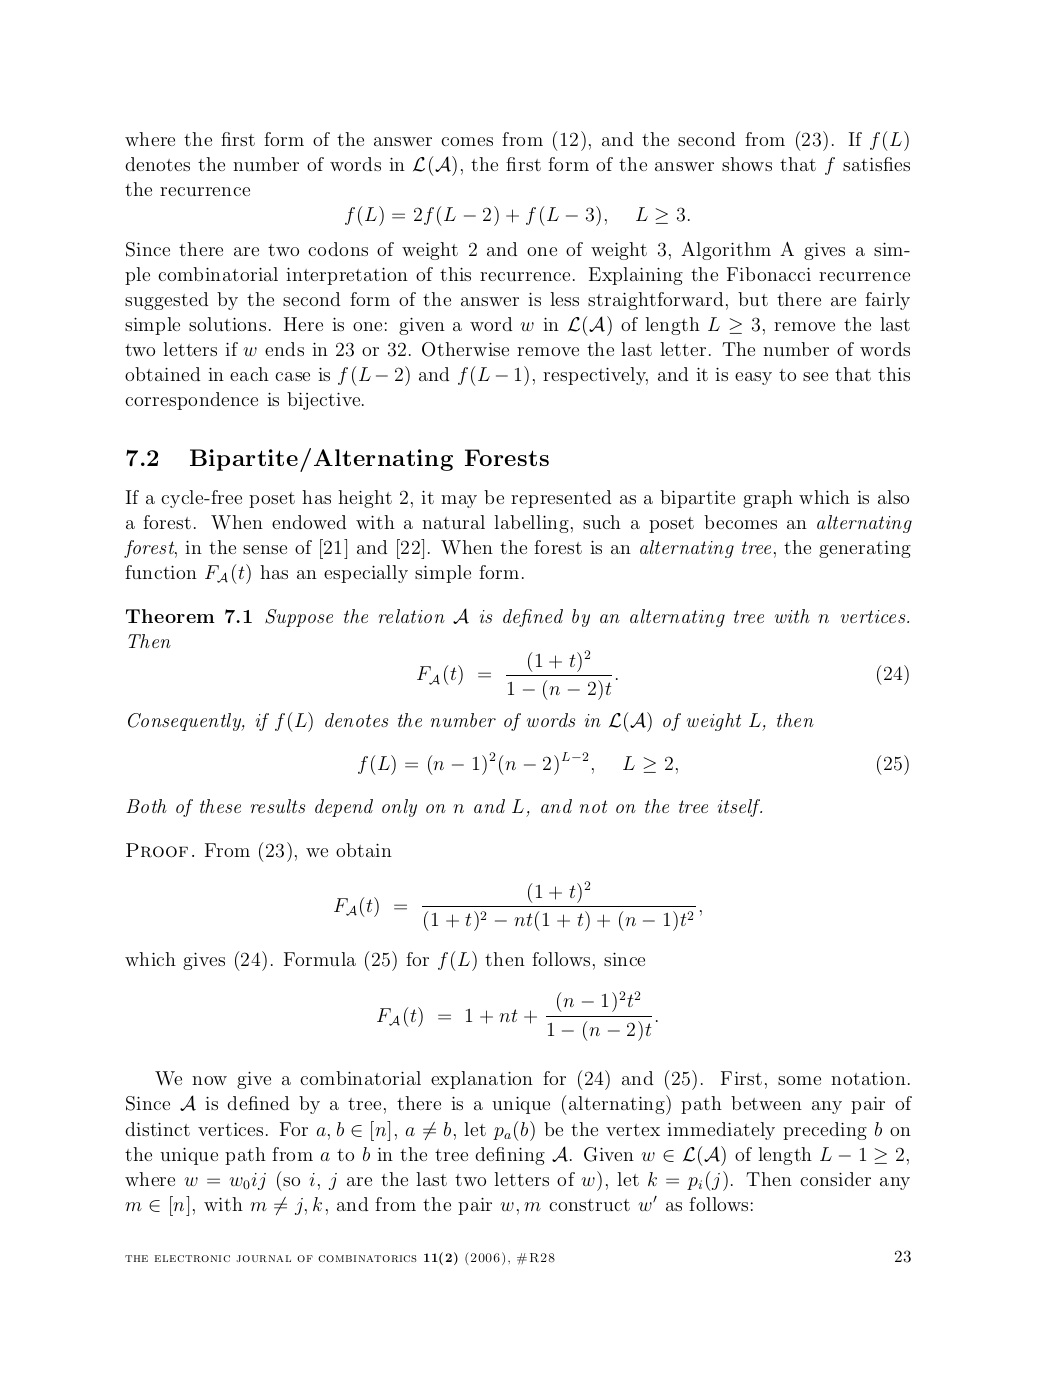formula: (417, 649, 908, 700), (334, 880, 701, 931), (377, 990, 658, 1041), (358, 751, 908, 775), (345, 205, 689, 226)
